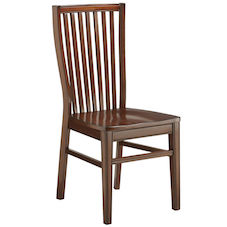chair: (30, 2, 194, 223)
